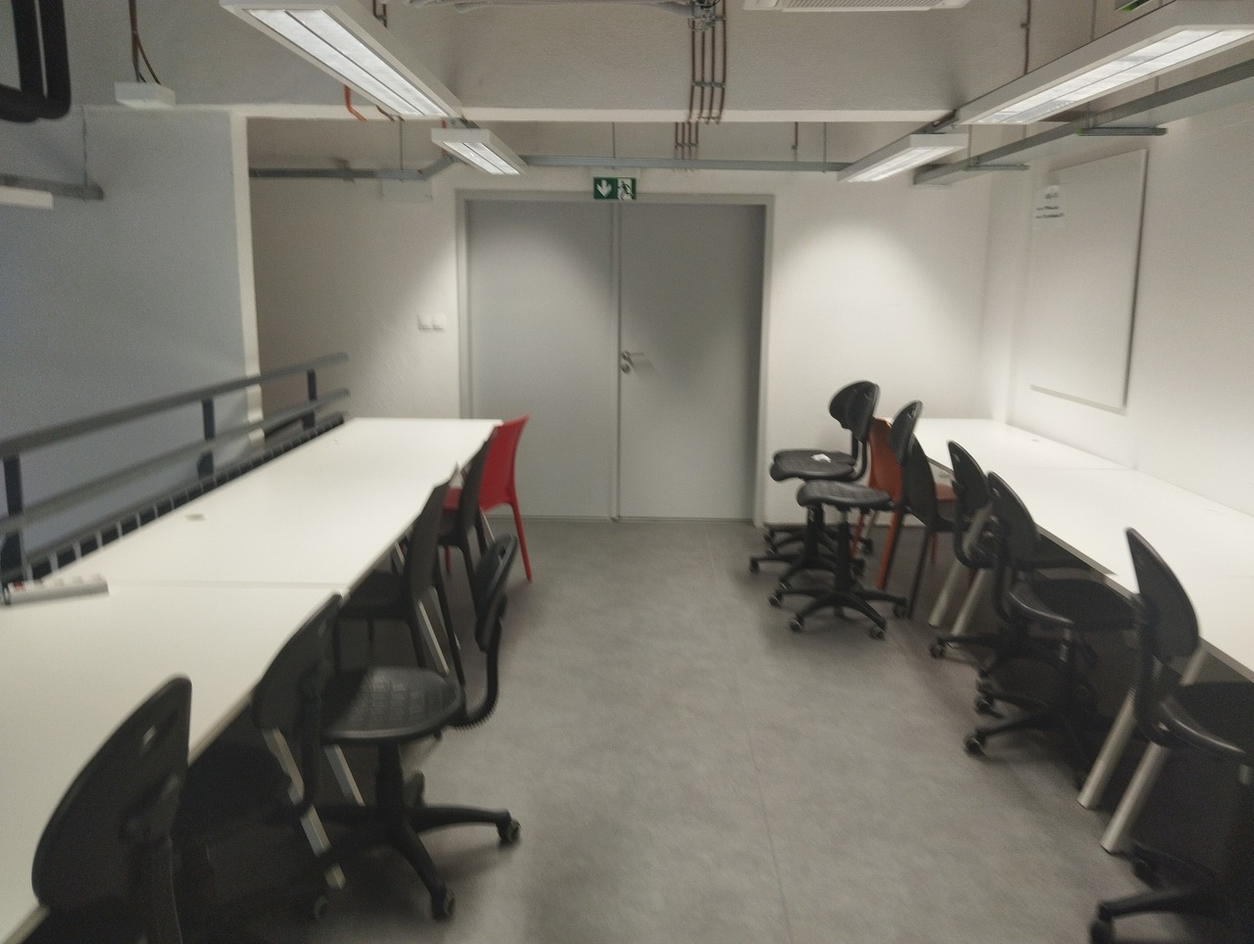Door-handle: (741, 370, 1254, 864), (45, 498, 537, 930)
